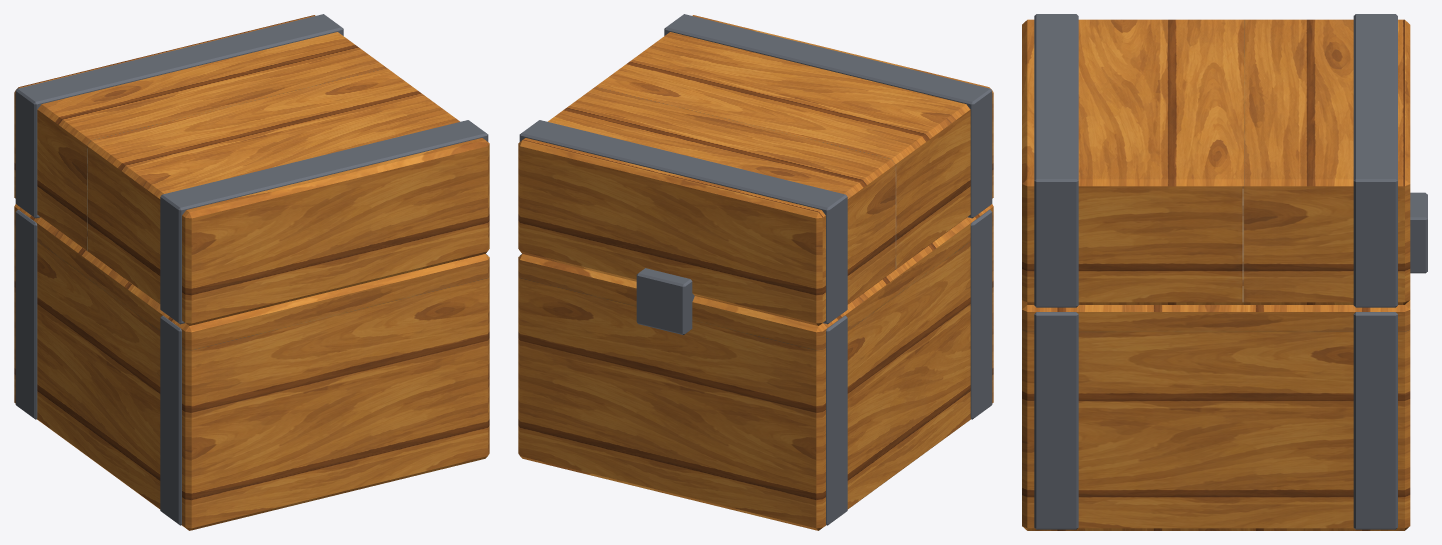
The model's file is wooden-chest.glb.
3 views of the same model, side by side, from view 1: azimuth 30°, elevation 25°; view 2: azimuth 150°, elevation 25°; view 3: azimuth 270°, elevation 25° (orthographic). The views are drawn at different scales.
Parts seen in each view (by area): view 1: ChestLid, ChestBase; view 2: ChestLid, ChestBase; view 3: ChestLid, ChestBase.
Boxes of the visible parts, x1,y1,x2,y2 form: ChestLid: [14, 14, 489, 325]; ChestBase: [14, 204, 489, 530]; ChestLid: [518, 14, 993, 334]; ChestBase: [518, 204, 993, 530]; ChestLid: [1022, 14, 1427, 307]; ChestBase: [1022, 300, 1410, 530].
Size of the model in its own units: 0.89 by 0.8825 by 0.915.
2 materials, 1 textured.
